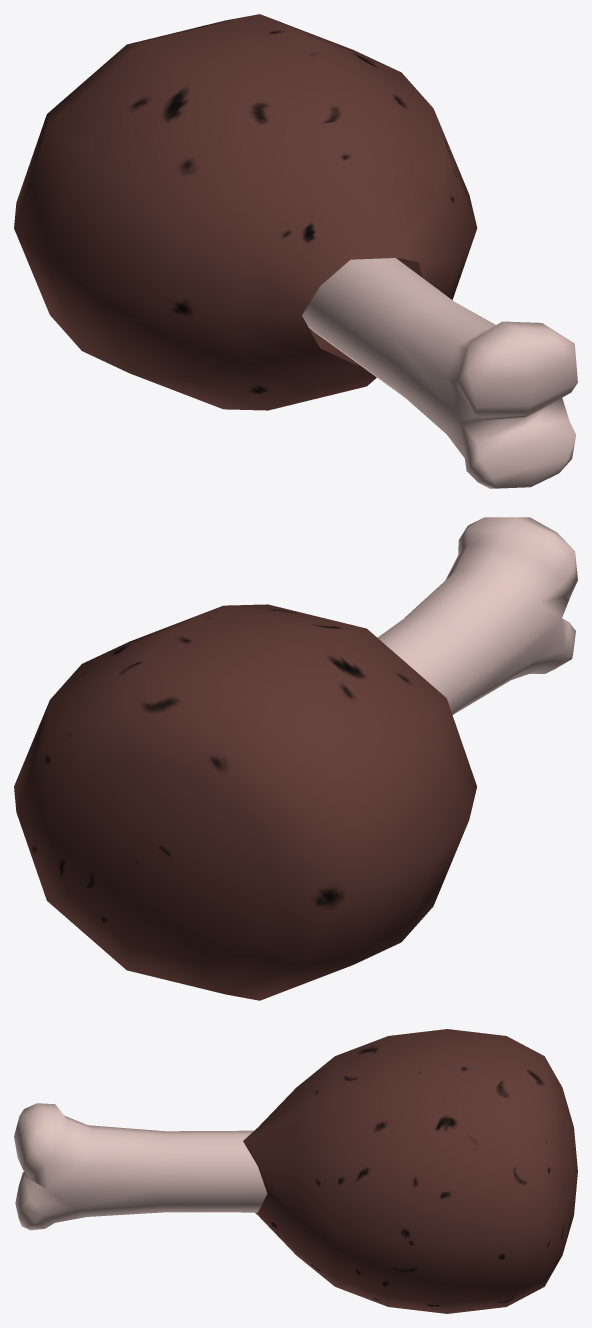
File: meet.fbx
3 renders of one model, top to bottom at view 1: azimuth 30°, elevation 25°; view 2: azimuth 150°, elevation 25°; view 3: azimuth 270°, elevation 25°, orthographic. The views are drawn at different scales.
Parts seen in each view (by area): view 1: pCylinder2; view 2: pCylinder2; view 3: pCylinder2.
Part boxes in pixels (left/top/right/bottom): pCylinder2: left=14, top=14, right=577, bottom=488; pCylinder2: left=14, top=517, right=577, bottom=1000; pCylinder2: left=14, top=1029, right=577, bottom=1313.
Size of the model in its own units: 0.5844 by 0.4586 by 0.9736.
